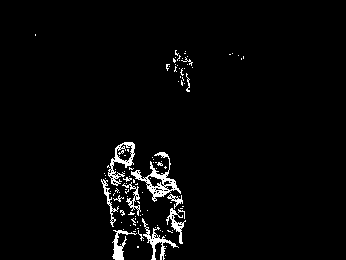person: (100, 140, 147, 260), (135, 150, 184, 260)
